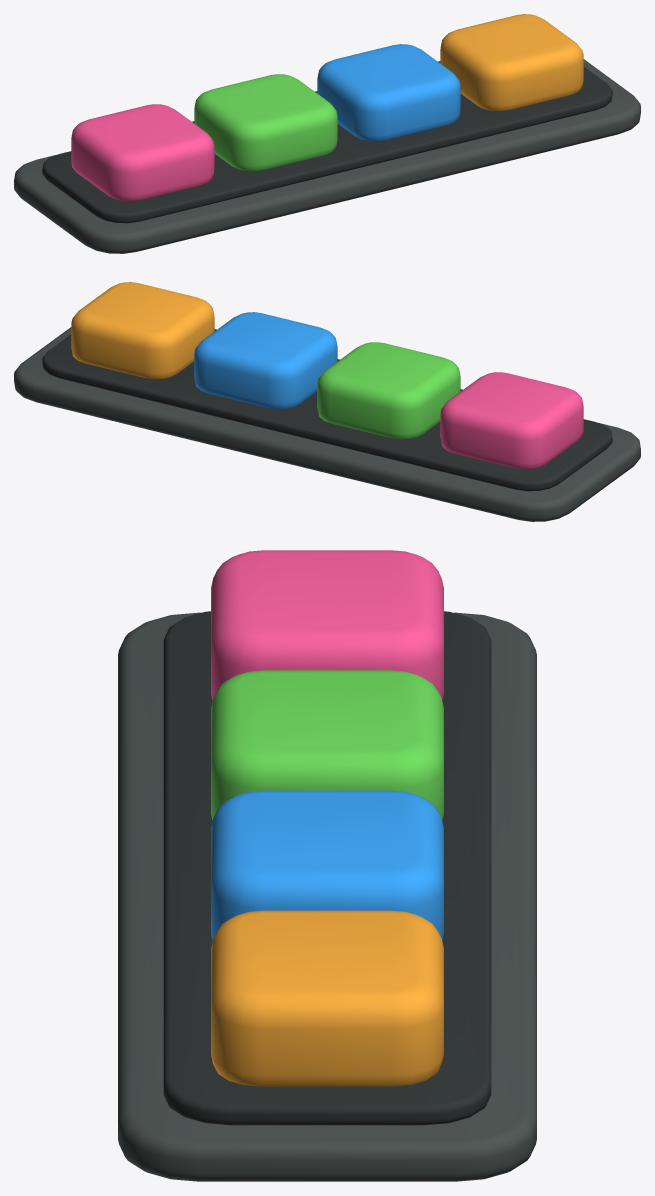
The model's file is left_keys.glb.
3 renders of one model, top to bottom at view 1: azimuth 30°, elevation 25°; view 2: azimuth 150°, elevation 25°; view 3: azimuth 270°, elevation 25°, orthographic. The views are drawn at different scales.
Visible parts, largest first — view 1: Housing, Well, Cap_left_1, Cap_left_2, Cap_left_3, Cap_left_4; view 2: Housing, Well, Cap_left_1, Cap_left_2, Cap_left_3, Cap_left_4; view 3: Housing, Well, Cap_left_4, Cap_left_1, Cap_left_3, Cap_left_2.
Part boxes in pixels (box(x1,y1,x2,y2)): Housing: box(14, 59, 640, 253); Well: box(42, 61, 612, 223); Cap_left_1: box(71, 104, 214, 201); Cap_left_2: box(194, 74, 337, 171); Cap_left_3: box(317, 44, 460, 141); Cap_left_4: box(440, 14, 583, 111); Housing: box(14, 327, 640, 521); Well: box(42, 329, 612, 491); Cap_left_1: box(440, 372, 583, 469); Cap_left_2: box(317, 342, 460, 439); Cap_left_3: box(194, 312, 337, 409); Cap_left_4: box(71, 282, 214, 379); Housing: box(118, 612, 536, 1181); Well: box(163, 611, 491, 1125); Cap_left_4: box(211, 910, 443, 1086); Cap_left_1: box(211, 550, 443, 700); Cap_left_3: box(211, 790, 443, 940); Cap_left_2: box(211, 670, 443, 820).
Bounding box in the file's own units: 0.35 × 0.044 × 0.115.
